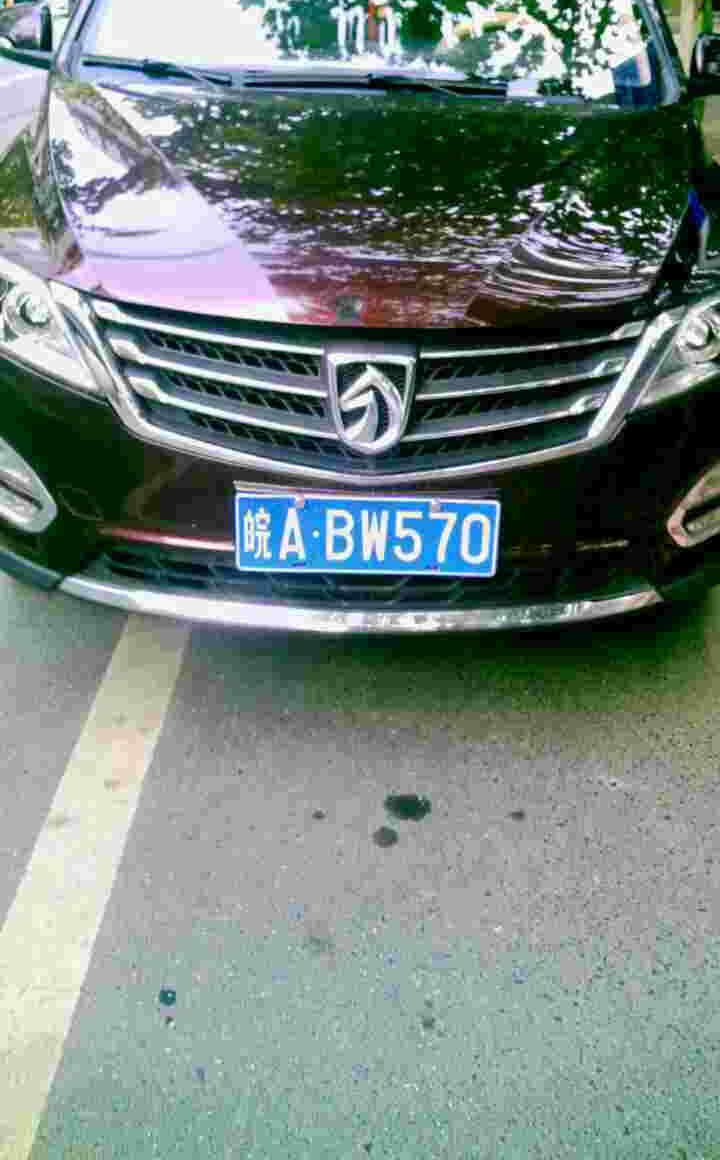license_plate: (234, 491, 500, 582)
